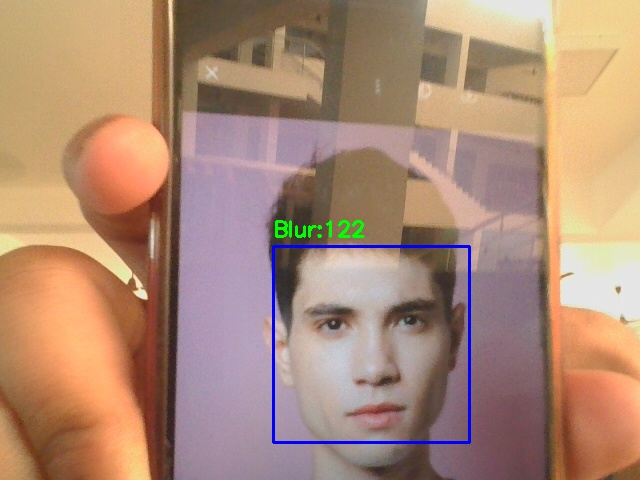fake: (273, 246, 469, 442)
